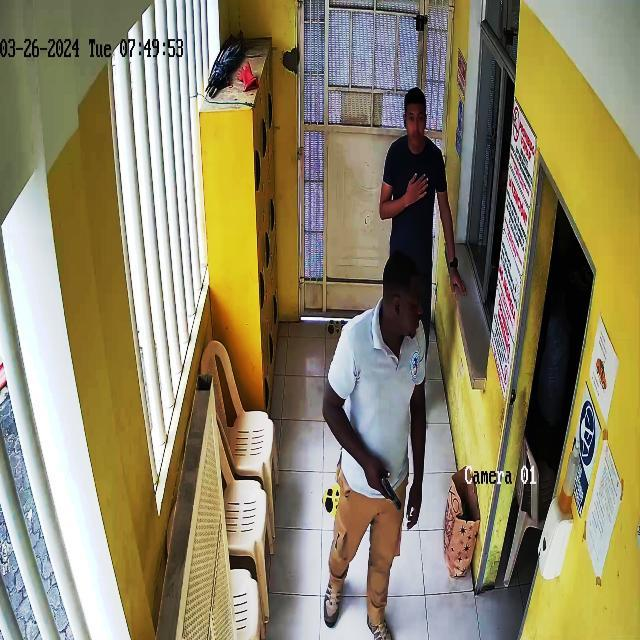Gun: (368, 460, 404, 513)
